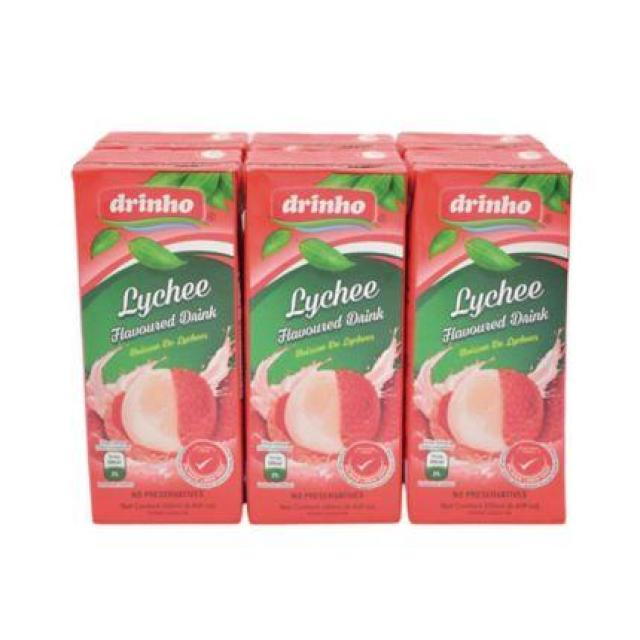drink carton: (77, 128, 574, 524)
